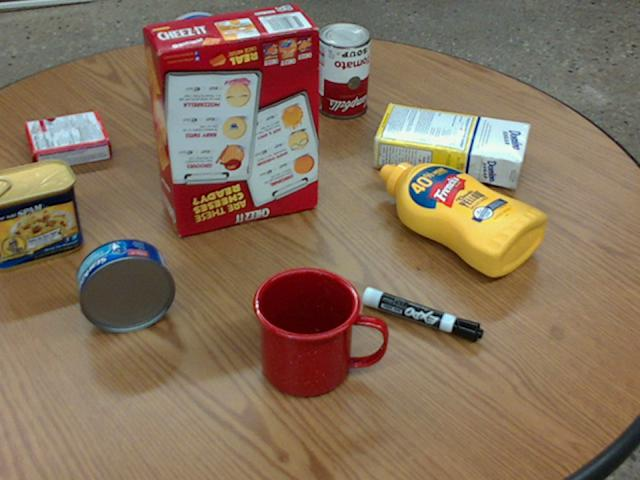cracker_box: (141, 7, 320, 235)
gelatin_box: (24, 110, 112, 171)
large_marker: (361, 287, 483, 342)
master_chef_can: (155, 12, 272, 133)
mug: (253, 266, 387, 398)
mustard_bottle: (379, 162, 546, 275)
potted_meat_can: (0, 159, 82, 272)
sugar_box: (372, 105, 529, 185)
tomato_soup_can: (314, 21, 368, 117)
tuna_fish_can: (76, 238, 174, 332)
